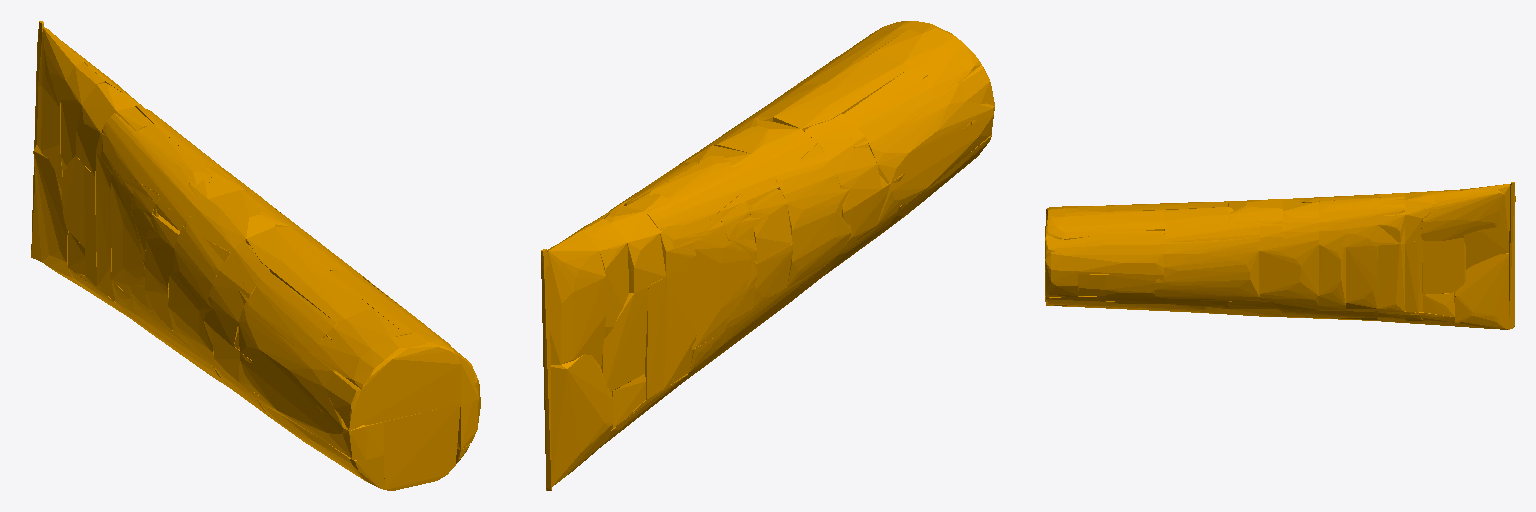
URDF robot description (tube-shoe):
<?xml version="1.0" ?>
<robot name="tube-shoe">
  <link name="baseLink">
    <contact>
      <lateral_friction value="1.0"/>
      <inertia_scaling value="3.0"/>
    </contact>
    <inertial>
      <origin rpy="0 0 0" xyz="0.000 0.000 0.000"/>
       <mass value=".1"/>
       <inertia ixx="1" ixy="0.0" ixz="0.0" iyy="1" iyz="0.0" izz="1"/>
    </inertial>
    <visual>
      <origin rpy="0 0 0" xyz="0 0 0"/>
      <geometry>
        <mesh filename="tube/tube-shoe_polish.obj" scale="1.0 1.0 1.0"/>
      </geometry>
    </visual>
    <collision>
      <origin rpy="0 0 0" xyz="0 0 0"/>
      <geometry>
        <mesh filename="../collision/tube/tube-shoe_polish.obj" scale="1.0 1.0 1.0"/>
      </geometry>
    </collision>
  </link>
</robot>
        

--- Facts derived from the render (not from the file) ---
The picture shows the robot from 3 angles, left to right: view 1: azimuth 30°, elevation 25°; view 2: azimuth 150°, elevation 25°; view 3: azimuth 270°, elevation 25°; orthographic projection.
Robot: tube-shoe — 1 links, 0 joints (none); root link baseLink; default pose: every joint at zero.
Visible links, largest first — view 1: baseLink; view 2: baseLink; view 3: baseLink.
Boxes of the visible links, box(x1,y1,x2,y2) form: baseLink: box(31, 21, 480, 490); baseLink: box(541, 21, 994, 490); baseLink: box(1045, 182, 1515, 329).
Size in the robot's own frame: 0.0342 by 0.1587 by 0.0548 metres.
Meshes: 1 distinct files referenced, 1 mesh visuals loaded (1 OBJ).